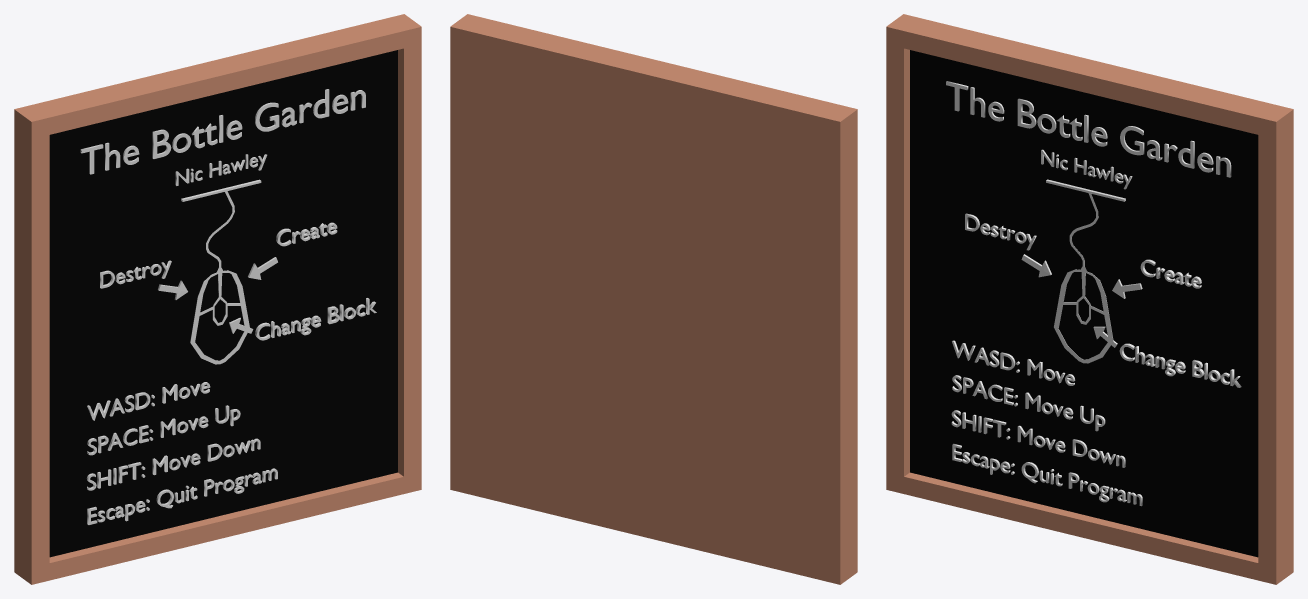
The model's file is tutorial.fbx.
3 views of the same model, side by side, from view 1: azimuth 30°, elevation 25°; view 2: azimuth 150°, elevation 25°; view 3: azimuth 330°, elevation 25° (orthographic).
Parts seen in each view (by area): view 1: Cube, Text.007, Cube.045, Text.001, Text.006, Text.003, Text.000, Text.002, Text.008, Text.005, Text.004; view 2: Cube; view 3: Cube, Text.007, Cube.045, Text.001, Text.006, Text.003, Text.000, Text.002, Text.008, Text.005, Text.004.
Part boxes in pixels (x1,y1,x2,y2): Cube: [14, 14, 421, 584]; Text.007: [80, 89, 365, 174]; Cube.045: [190, 191, 249, 364]; Text.001: [87, 468, 277, 524]; Text.006: [86, 438, 260, 490]; Text.003: [87, 405, 240, 455]; Text.000: [255, 298, 376, 340]; Text.002: [87, 382, 210, 420]; Text.008: [175, 154, 267, 185]; Text.005: [100, 260, 171, 288]; Text.004: [276, 222, 337, 246]; Cube: [450, 14, 857, 584]; Cube: [886, 14, 1293, 584]; Text.007: [946, 81, 1231, 177]; Cube.045: [1054, 193, 1113, 363]; Text.001: [952, 443, 1142, 506]; Text.006: [951, 410, 1125, 467]; Text.003: [952, 375, 1105, 431]; Text.000: [1119, 343, 1241, 387]; Text.002: [952, 340, 1075, 385]; Text.008: [1041, 149, 1132, 189]; Text.005: [965, 213, 1036, 250]; Text.004: [1140, 259, 1201, 288].
Size of the model in its own units: 238 by 270 by 18.38.
